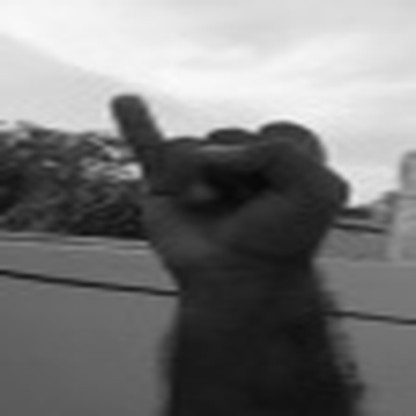i: (92, 82, 356, 273)
